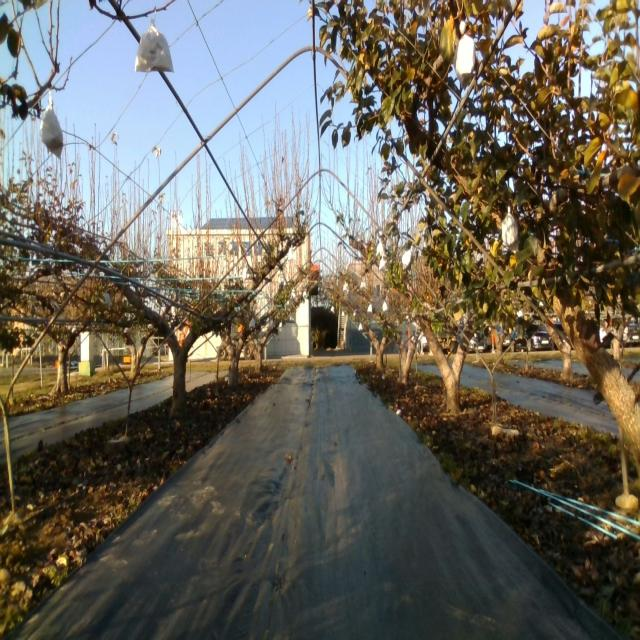pearbags: (132, 16, 175, 74), (38, 97, 63, 160), (454, 35, 476, 88), (501, 212, 518, 252), (401, 250, 412, 268)
